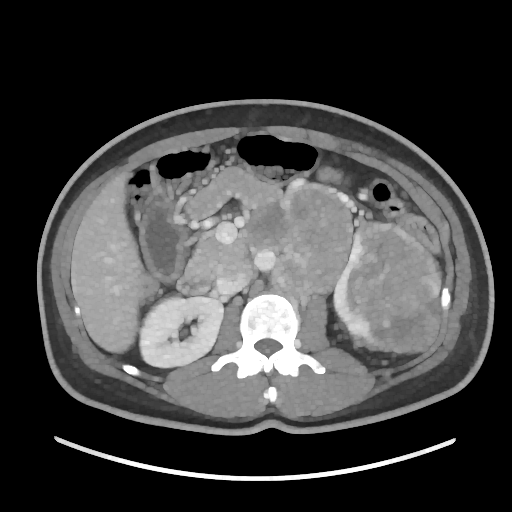Lesion: (344, 224, 443, 326)
